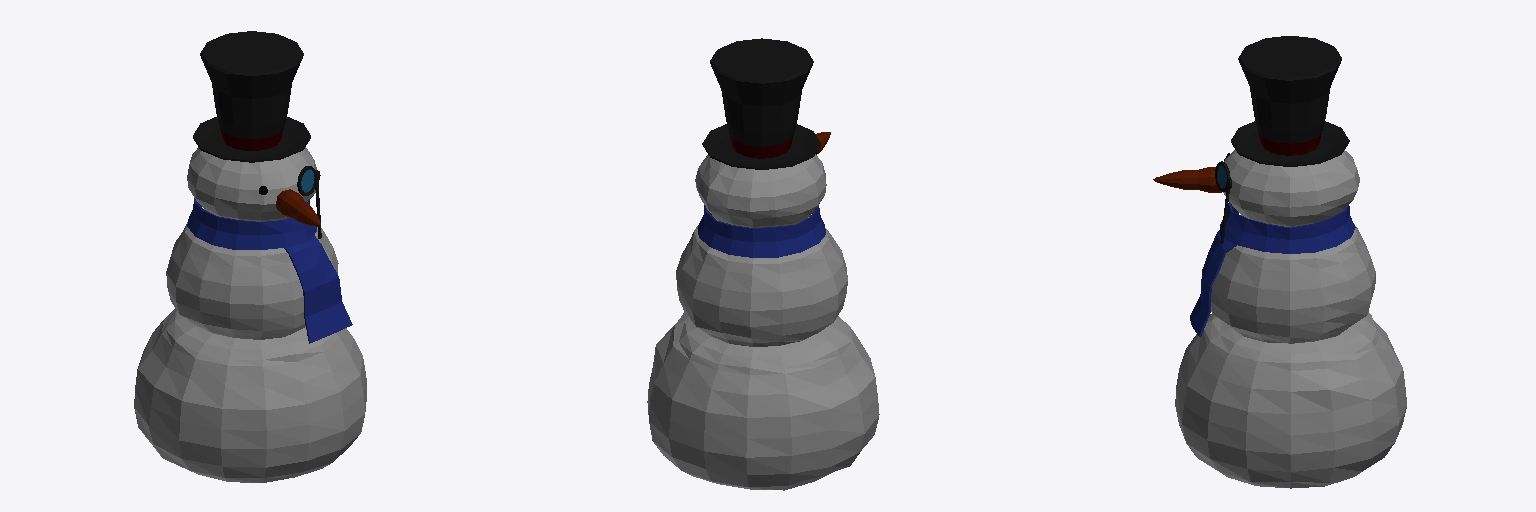
Rendered from snowman_big.obj.
3 views of the same model, side by side, from view 1: azimuth 30°, elevation 25°; view 2: azimuth 150°, elevation 25°; view 3: azimuth 270°, elevation 25° (orthographic).
Parts seen in each view (by area): view 1: Cylinder.001_Cylinder.002, Cylinder.002_Cylinder.001, Sphere.001_Sphere.004, Cylinder, Cylinder.005_Cylinder.006; view 2: Cylinder.001_Cylinder.002, Cylinder.002_Cylinder.001, Sphere.001_Sphere.004; view 3: Cylinder.001_Cylinder.002, Cylinder.002_Cylinder.001, Sphere.001_Sphere.004, Cylinder, Cylinder.005_Cylinder.006.
Part boxes in pixels (x1,y1,x2,y2): Cylinder.001_Cylinder.002: (134,147,366,482); Cylinder.002_Cylinder.001: (193,31,310,162); Sphere.001_Sphere.004: (187,198,352,343); Cylinder: (276,189,320,226); Cylinder.005_Cylinder.006: (297,166,321,238); Cylinder.001_Cylinder.002: (647,154,879,490); Cylinder.002_Cylinder.001: (702,38,820,169); Sphere.001_Sphere.004: (698,205,825,257); Cylinder.001_Cylinder.002: (1175,150,1406,488); Cylinder.002_Cylinder.001: (1231,36,1349,166); Sphere.001_Sphere.004: (1190,202,1355,336); Cylinder: (1153,167,1221,192); Cylinder.005_Cylinder.006: (1215,161,1231,243).
Bounding box in the file's own units: 2.11 × 3.95 × 2.28.